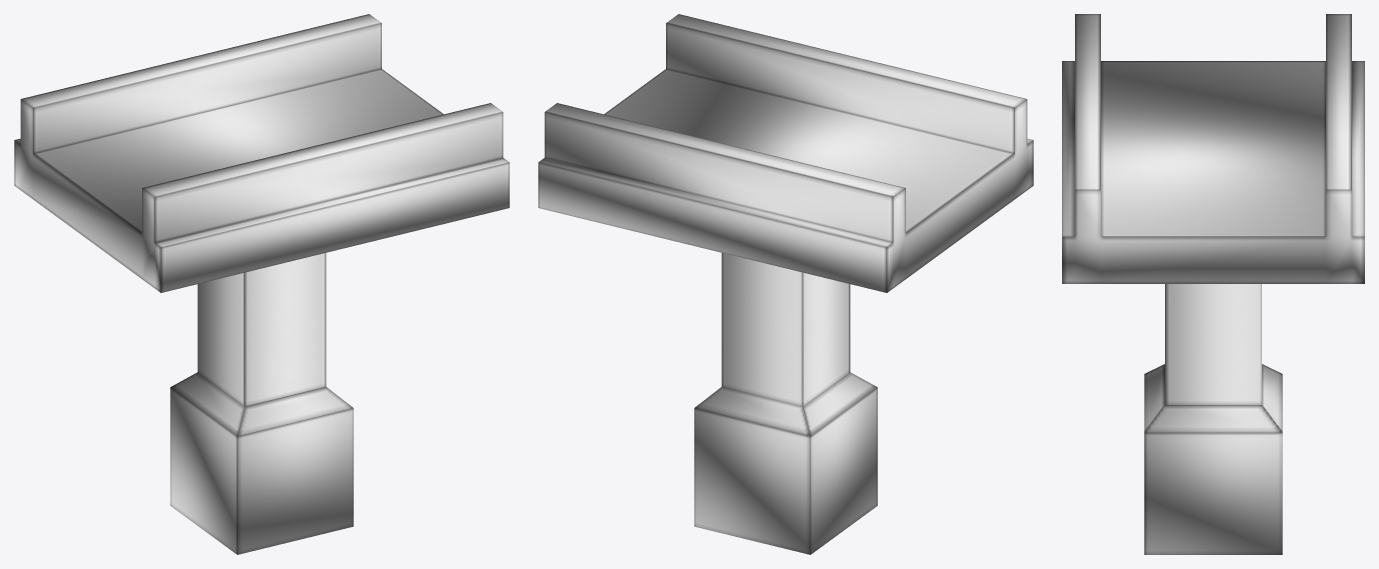
The model's file is Bridge-01.fbx.
The picture shows the model from 3 angles, left to right: view 1: azimuth 30°, elevation 25°; view 2: azimuth 150°, elevation 25°; view 3: azimuth 270°, elevation 25°; orthographic projection. The views are drawn at different scales.
Parts seen in each view (by area): view 1: Bridge-01; view 2: Bridge-01; view 3: Bridge-01.
Part boxes in pixels (x1,y1,x2,y2): Bridge-01: [14, 14, 509, 554]; Bridge-01: [538, 14, 1033, 554]; Bridge-01: [1062, 14, 1364, 554].
Size of the model in its own units: 1 by 1.12 by 0.7285.
